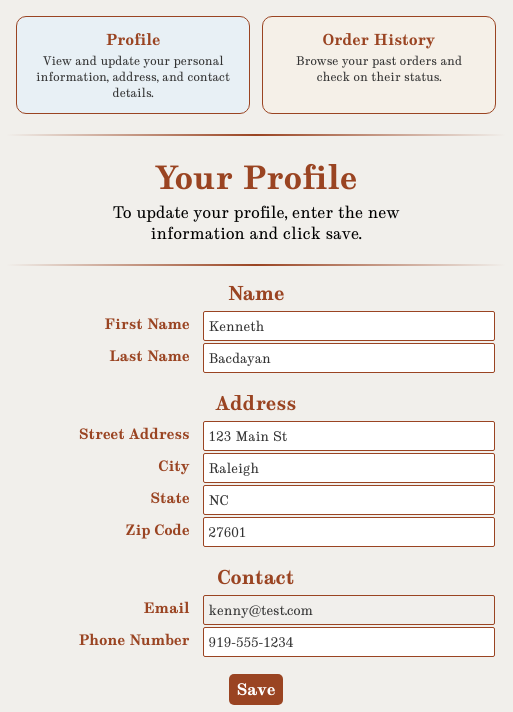
Test: Profile Page › shows nested customer_profile field errors
Expected: the field labelled "First Name" is shown, [203,311,495,341]
Click the button "Save": point(256, 690) [228,674,284,705]
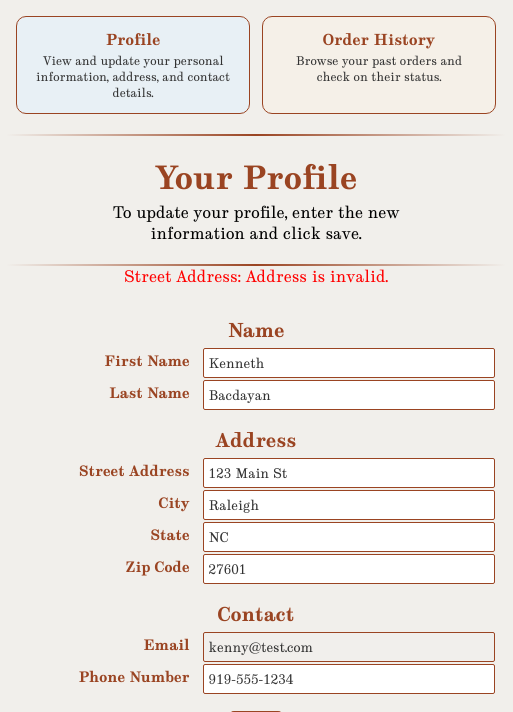
Result: the text "Street Address: Address is invalid." is shown at [124,266,388,287]
